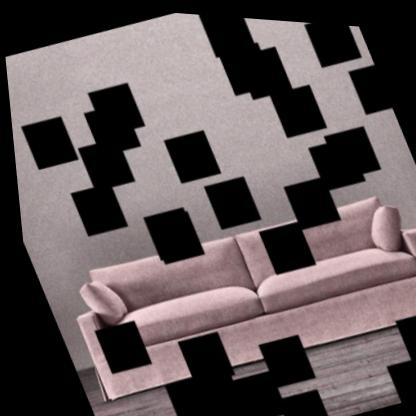Sofa: (46, 161, 416, 413)
